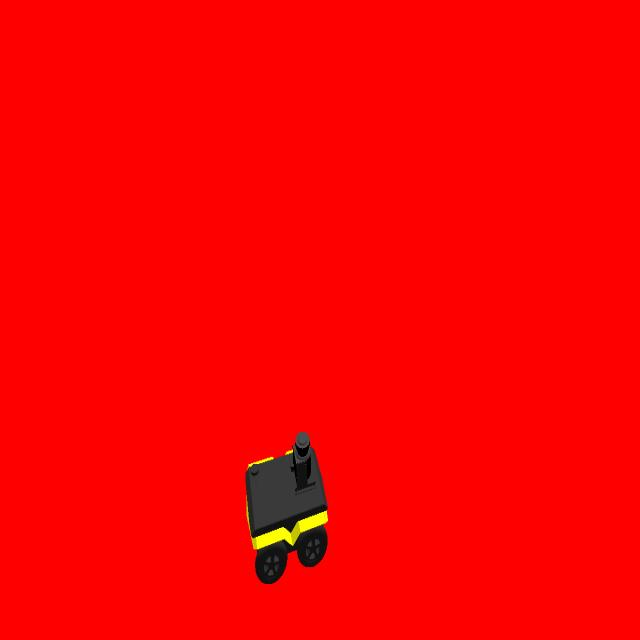jackal: (245, 430, 330, 586)
